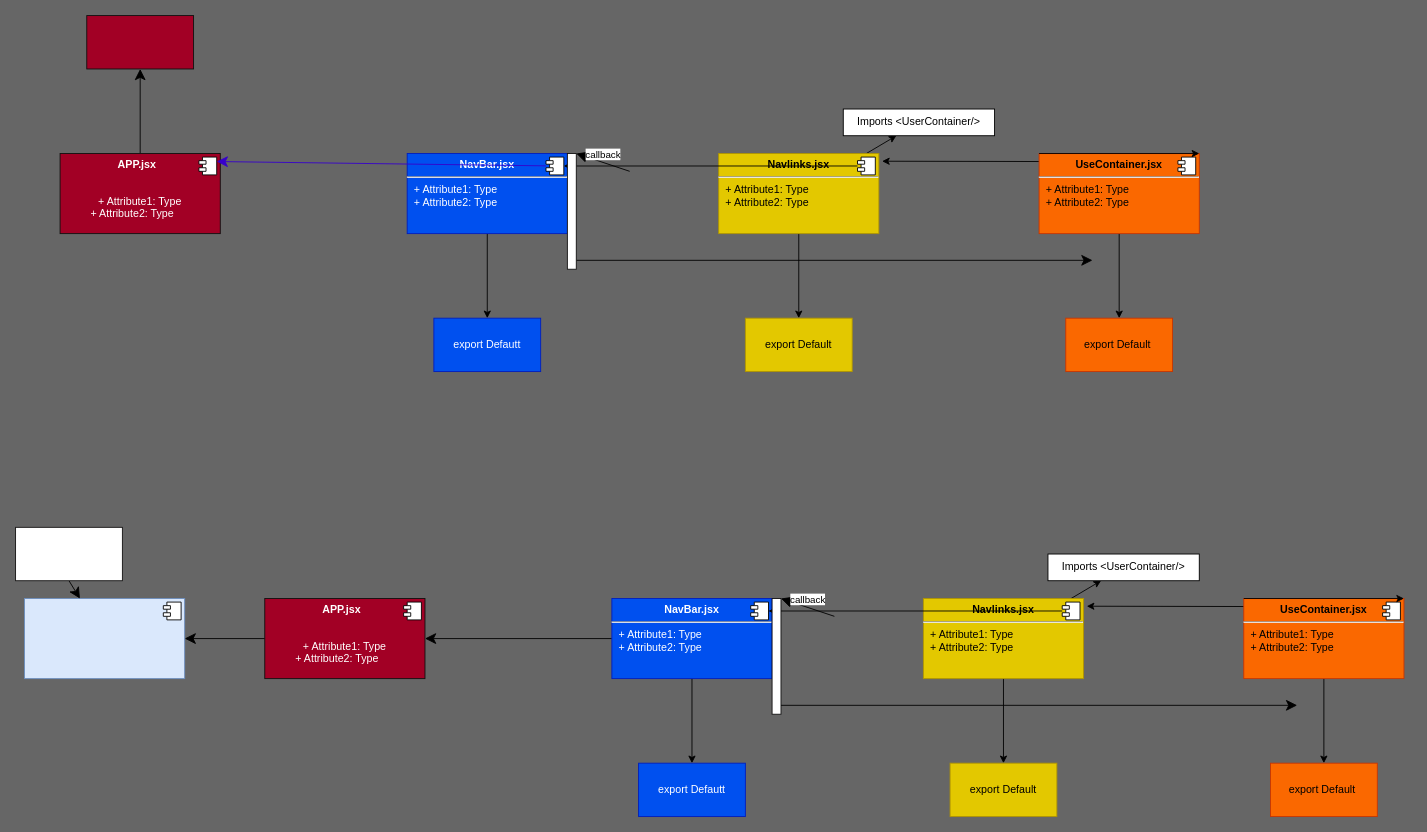
The diagram is 1427 pixels wide and 832 high, and some of its shapes have lost their labels. The centre of each missing label's shape, as x and y in pixels:
"Contex/ Prop Drilling" belongs at pixel 140 42.
"main.jsx + Attribute1: Type + Attribute2: Type" belongs at pixel 104 638.
